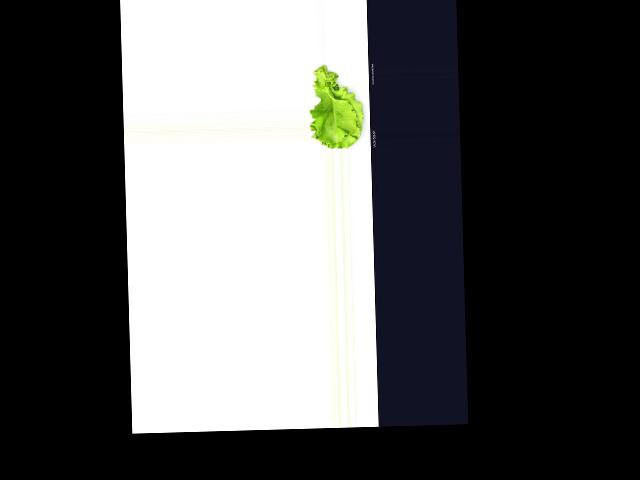lettuce: (307, 65, 368, 149)
